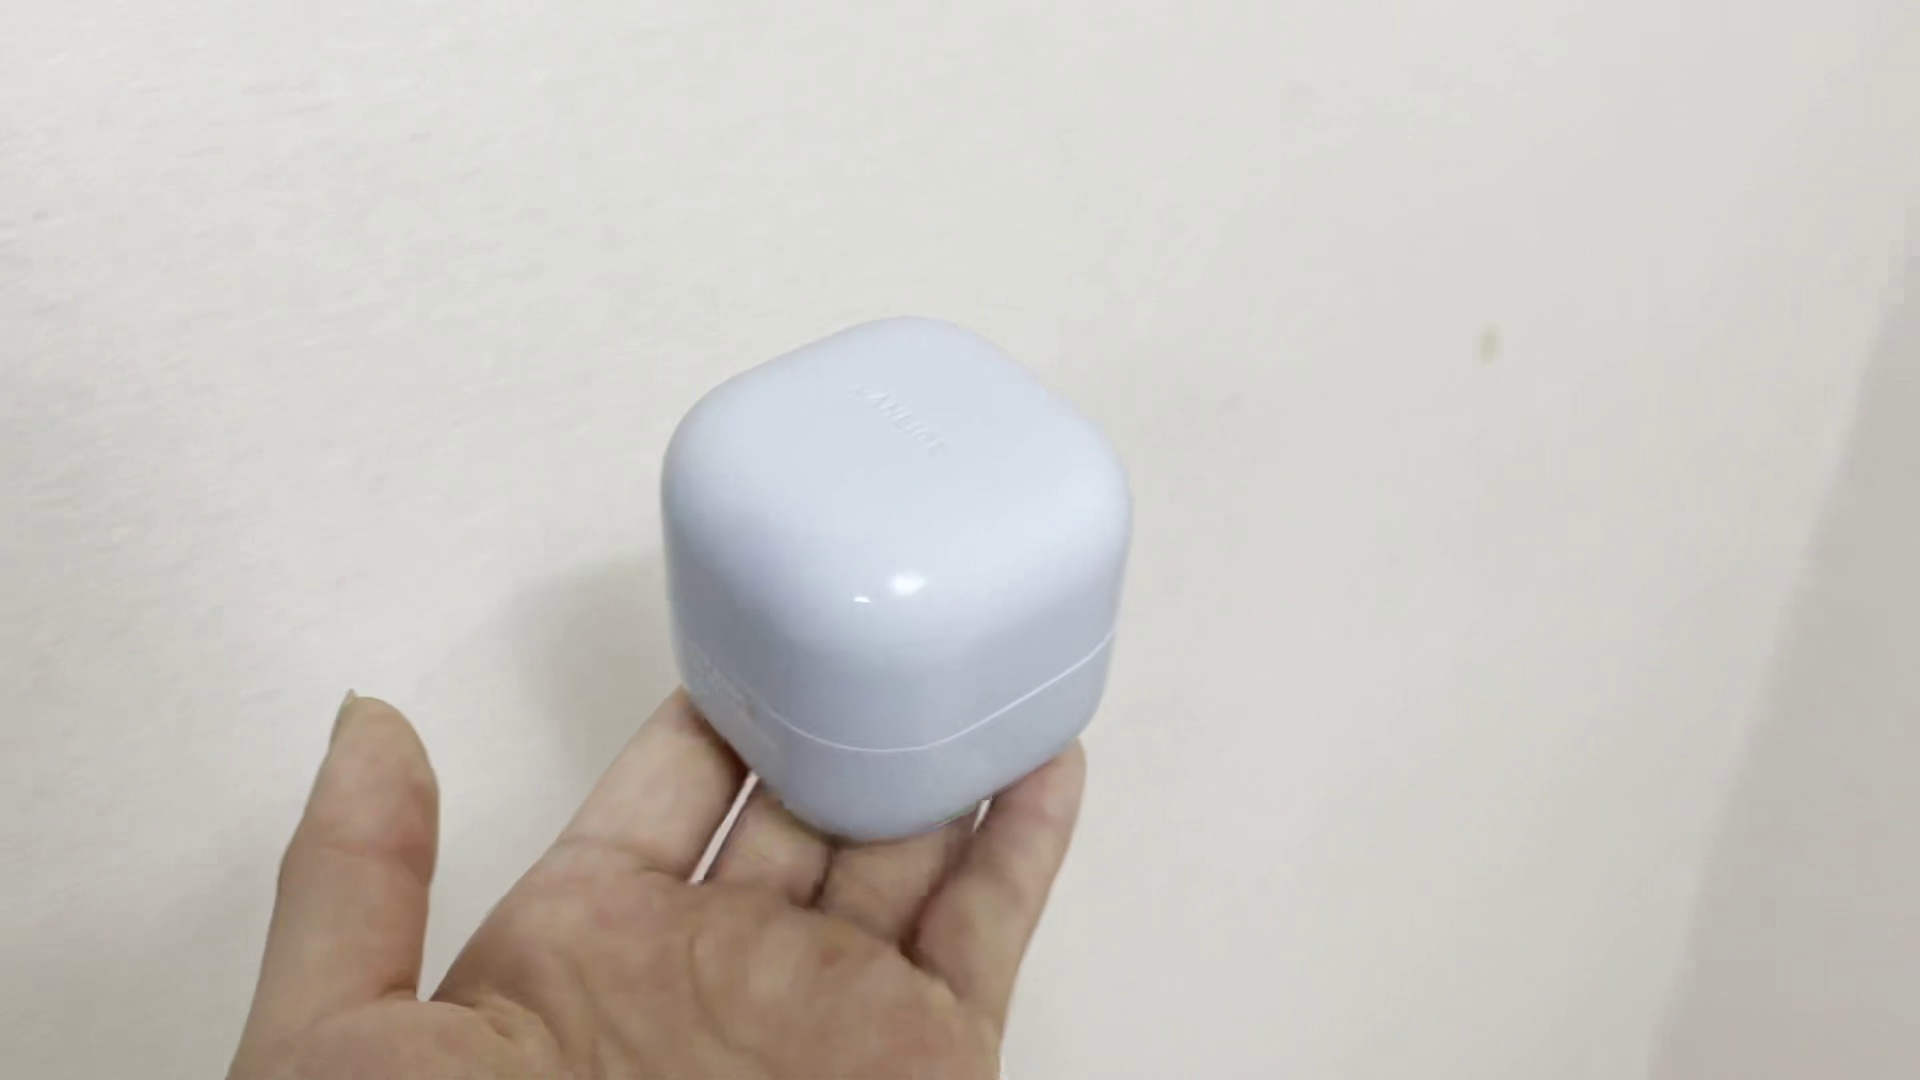cream: (663, 316, 1131, 839)
